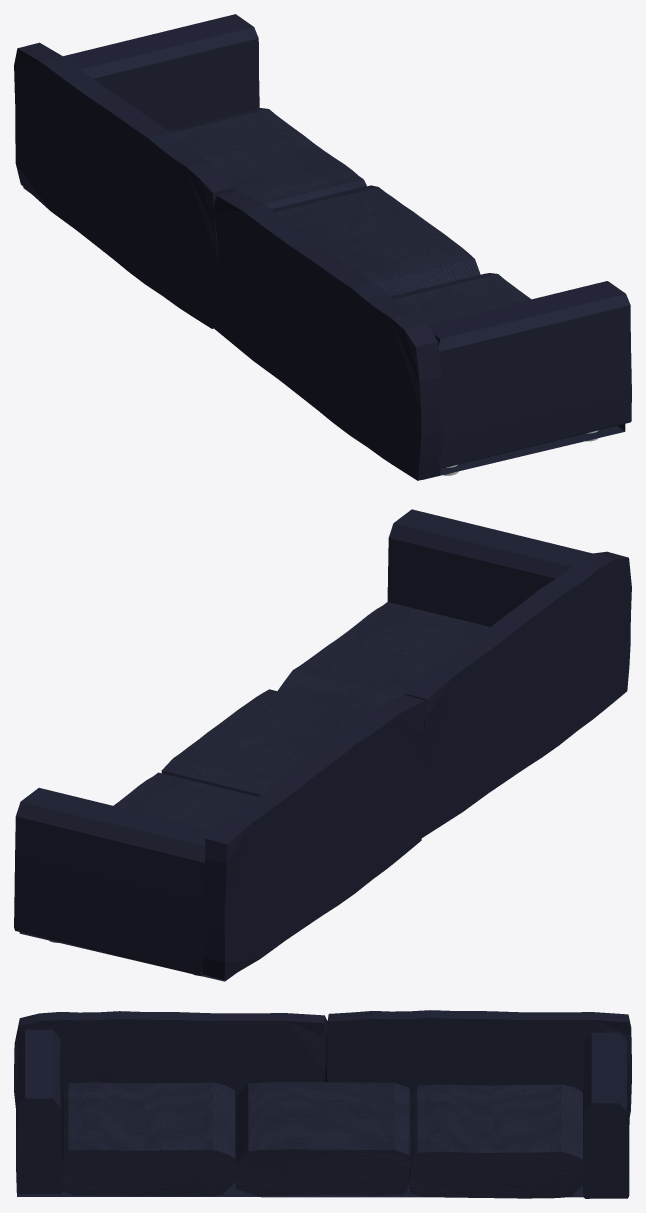
Rendered from sofa_DD.glb.
3 renders of one model, top to bottom at view 1: azimuth 30°, elevation 25°; view 2: azimuth 150°, elevation 25°; view 3: azimuth 270°, elevation 25°, orthographic. The views are drawn at different scales.
Parts seen in each view (by area): view 1: Cylinder.003; view 2: Cylinder.003; view 3: Cylinder.003.
Boxes of the visible parts, x1,y1,x2,y2 form: Cylinder.003: (14, 14, 631, 480); Cylinder.003: (14, 509, 631, 981); Cylinder.003: (14, 1010, 631, 1198).
Bounding box in the file's own units: 34.67 × 23.73 × 114.
Materials: 2 (2 with a texture image).
